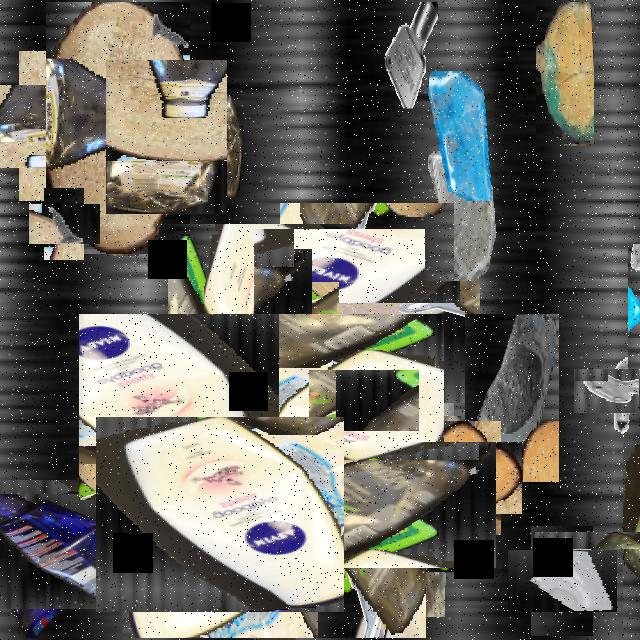glass: (465, 314, 559, 482), (2, 68, 120, 184), (425, 149, 499, 281), (425, 71, 497, 199), (175, 366, 261, 452), (519, 538, 605, 624), (389, 517, 445, 617), (628, 244, 640, 382)
metal: (321, 357, 407, 443), (383, 2, 443, 108), (584, 358, 640, 423), (36, 196, 92, 252)
plastic: (123, 269, 399, 545), (109, 403, 331, 625), (267, 216, 467, 417), (265, 407, 461, 603), (0, 464, 150, 623), (97, 68, 235, 206), (292, 430, 430, 566), (578, 487, 640, 593)
wood: (46, 2, 190, 254), (363, 416, 461, 572), (418, 432, 512, 524), (536, 2, 594, 144)
